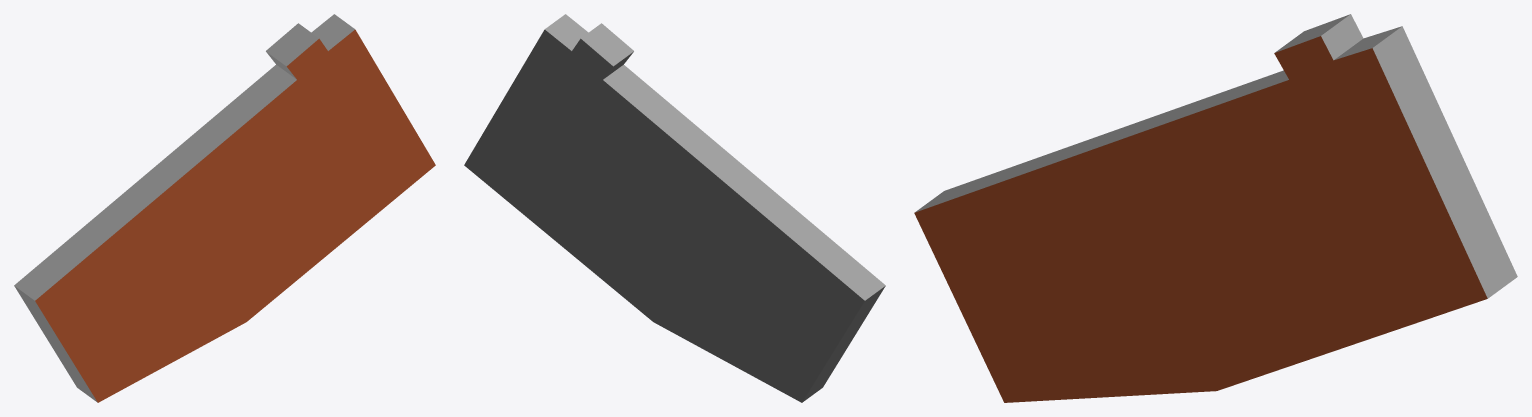
The model's file is construction_6215_assumed_A_Casa_h6m.obj.
3 renders of one model, left to right at view 1: azimuth 30°, elevation 25°; view 2: azimuth 150°, elevation 25°; view 3: azimuth 330°, elevation 25°, orthographic. The views are drawn at different scales.
Parts seen in each view (by area): view 1: construction_6215_assumed_A_Casa; view 2: construction_6215_assumed_A_Casa; view 3: construction_6215_assumed_A_Casa.
Part boxes in pixels (x1,y1,x2,y2): construction_6215_assumed_A_Casa: (14,14,435,402); construction_6215_assumed_A_Casa: (464,14,885,402); construction_6215_assumed_A_Casa: (914,14,1517,402).
Bounding box in the file's own units: 66.2 × 49.04 × 6.
